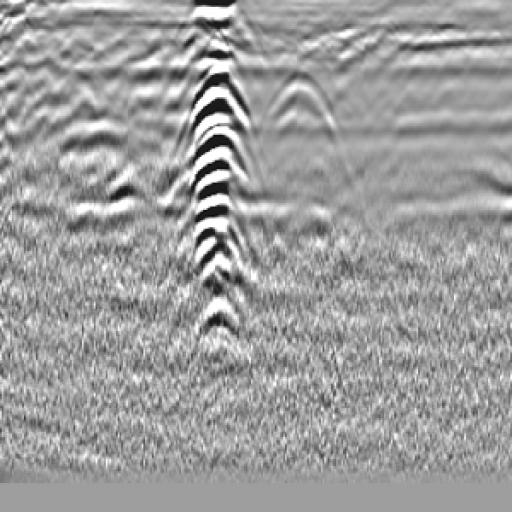metalic: (179, 35, 256, 320)
nonmetalic: (239, 71, 363, 190)
